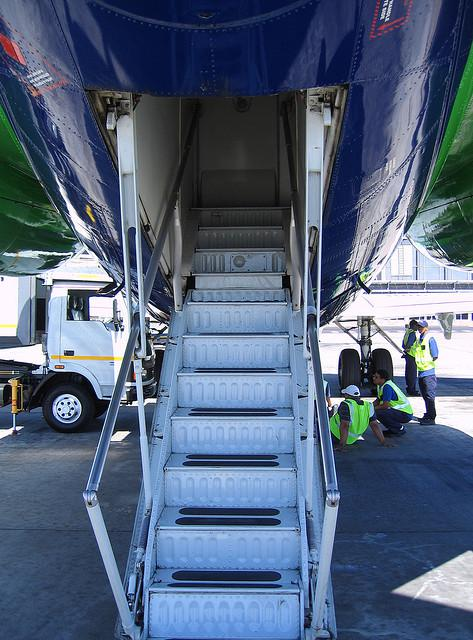Airplane: (3, 0, 473, 630), (333, 281, 473, 395)
